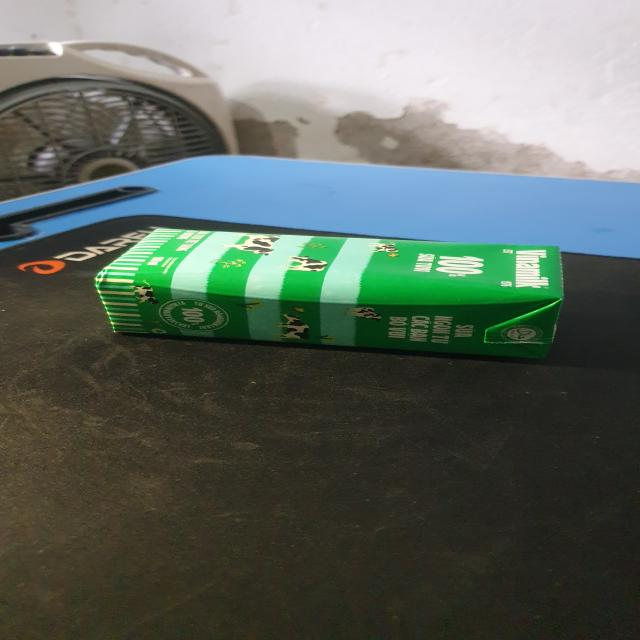Vina: (97, 226, 571, 355)
